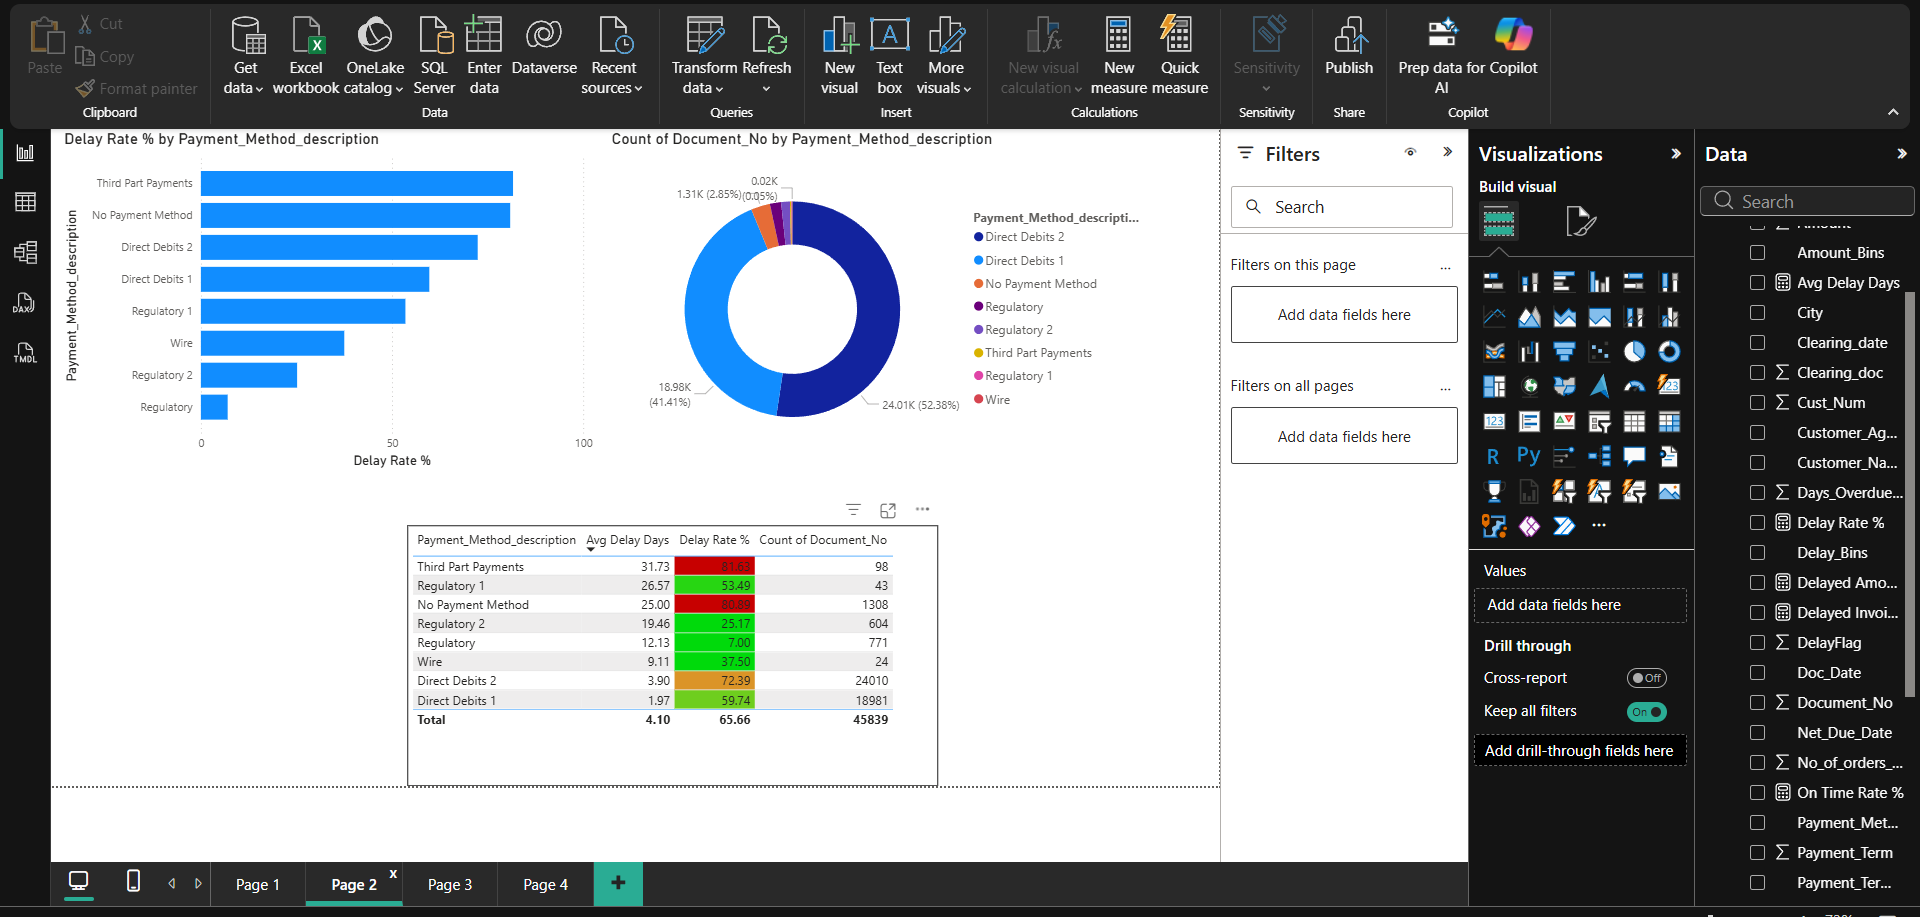

The dashboard page shown, as its layout file describes it:
{"tool":"powerbi","page":{"name":"Page 2","canvas":[1280,720],"ordinal":1},"visuals":[{"type":"clusteredBarChart","fields":{"Category":["SMEDataset.Payment_Method_description"],"Y":["SMEDataset.Delay Rate %"]},"box":[9.6,0,588.7,376],"z":0},{"type":"tableEx","fields":{"Values":["SMEDataset.Payment_Method_description","SMEDataset.Avg Delay Days","SMEDataset.Delay Rate %","CountNonNull(SMEDataset.Document_No)"]},"box":[390.2,434.1,581.9,286.2],"z":1},{"type":"donutChart","fields":{"Category":["SMEDataset.Payment_Method_description"],"Y":["CountNonNull(SMEDataset.Document_No)"]},"box":[609,0,589,376],"z":2}]}

Visuals, with their boxes on the page's 1280x720 design canvas (x1, y1, x2, y2). These are canvas units, not pixel positions in the 1920x917 screenshot, which may show the page scaled, cropped or inside an application window:
clusteredBarChart - SMEDataset.Payment_Method_description x SMEDataset.Delay Rate %: [10, 0, 598, 376]
tableEx - SMEDataset.Payment_Method_description x SMEDataset.Avg Delay Days: [390, 434, 972, 720]
donutChart - SMEDataset.Payment_Method_description x CountNonNull(SMEDataset.Document_No): [609, 0, 1198, 376]
